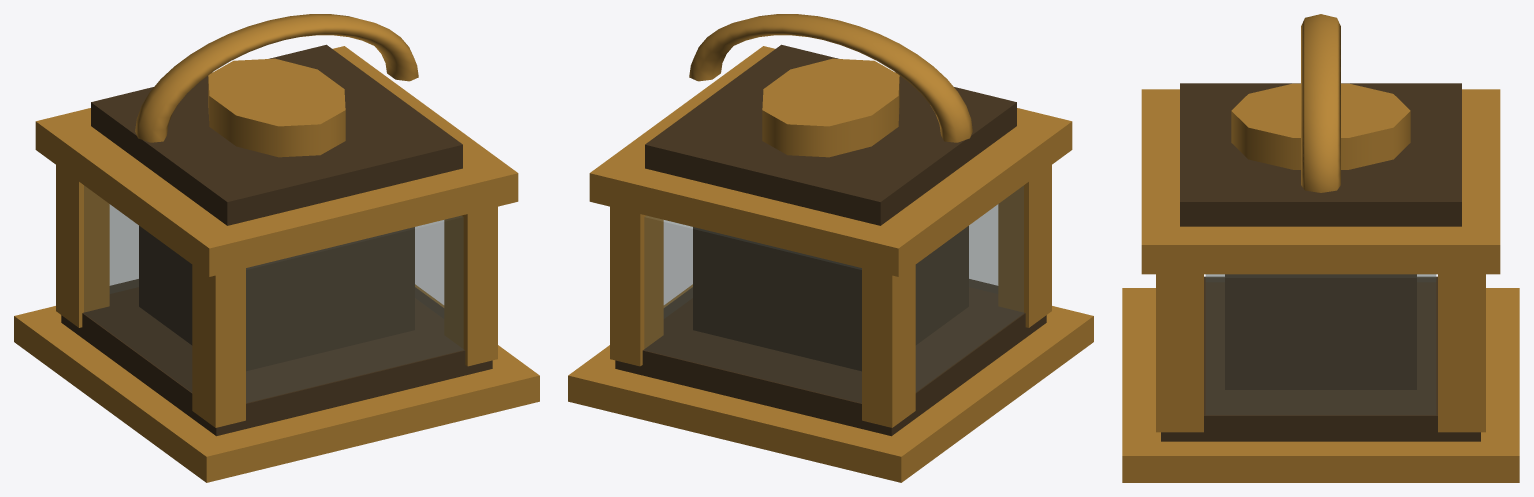
Rendered from lantern.glb.
3 views of the same model, side by side, from view 1: azimuth 30°, elevation 25°; view 2: azimuth 150°, elevation 25°; view 3: azimuth 270°, elevation 25° (orthographic). The views are drawn at different scales.
Visible parts, largest first — view 1: Front glass, Lantern cap, Sloped cap, Wide lantern foot, Brass corner post (×3), Dark empty chamber, Lantern base, Left glass, Vent, Lantern handle, Right glass, Rear glass; view 2: Rear glass, Lantern cap, Sloped cap, Wide lantern foot, Brass corner post (×3), Dark empty chamber, Lantern base, Left glass, Vent, Lantern handle, Right glass, Front glass; view 3: Right glass, Lantern cap, Wide lantern foot, Sloped cap, Dark empty chamber, Lantern base, Brass corner post (×2), Vent, Lantern handle.
Boxes of the visible parts, x1,y1,x2,y2 form: Front glass: [246, 216, 463, 402]; Lantern cap: [35, 46, 518, 276]; Sloped cap: [91, 44, 462, 225]; Wide lantern foot: [14, 284, 539, 482]; Brass corner post (×3): [56, 165, 497, 427]; Dark empty chamber: [139, 226, 414, 371]; Lantern base: [61, 279, 492, 436]; Left glass: [84, 186, 191, 391]; Vent: [208, 58, 345, 157]; Lantern handle: [135, 14, 418, 142]; Right glass: [415, 220, 443, 317]; Rear glass: [110, 205, 138, 293]; Rear glass: [644, 216, 861, 402]; Lantern cap: [589, 46, 1072, 276]; Sloped cap: [645, 44, 1016, 225]; Wide lantern foot: [568, 284, 1093, 482]; Brass corner post (×3): [610, 165, 1051, 427]; Dark empty chamber: [693, 226, 968, 371]; Lantern base: [615, 279, 1046, 436]; Left glass: [916, 186, 1023, 391]; Vent: [762, 58, 899, 157]; Lantern handle: [689, 14, 972, 142]; Right glass: [664, 220, 692, 317]; Front glass: [969, 205, 997, 293]; Right glass: [1206, 274, 1435, 414]; Lantern cap: [1141, 89, 1500, 274]; Wide lantern foot: [1122, 288, 1519, 482]; Sloped cap: [1180, 83, 1461, 226]; Dark empty chamber: [1225, 274, 1416, 389]; Lantern base: [1161, 276, 1480, 441]; Brass corner post (×2): [1156, 274, 1485, 432]; Vent: [1231, 83, 1410, 169]; Lantern handle: [1301, 14, 1340, 192].
Size of the model in its own units: 1 by 1 by 1.
